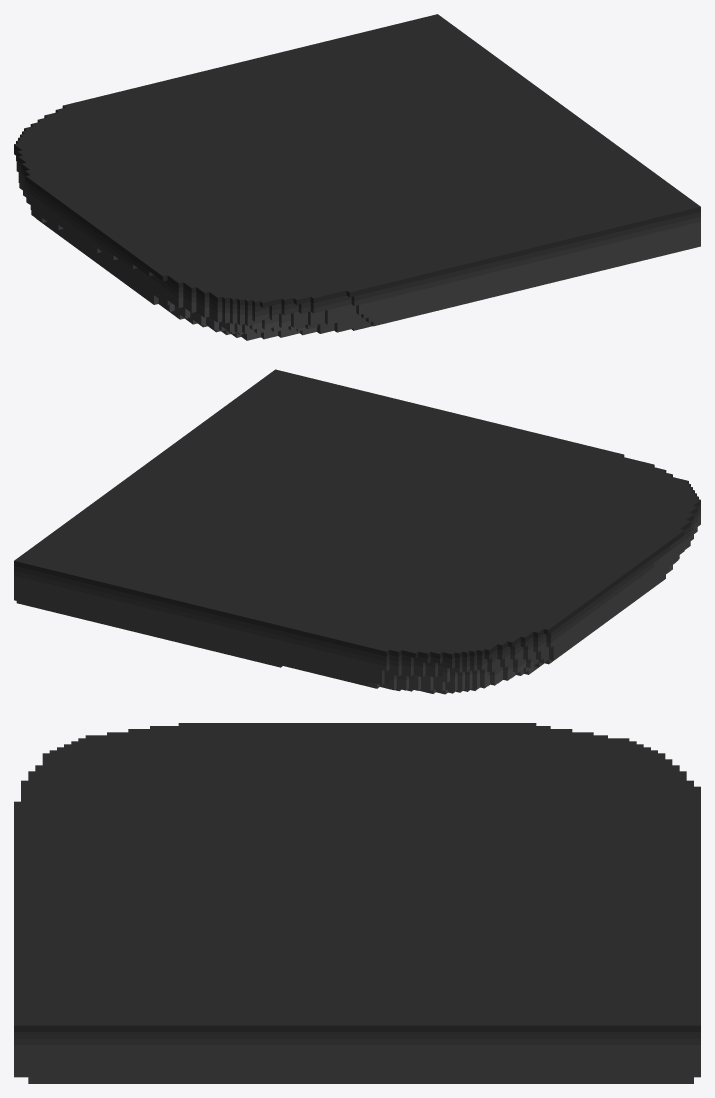
The model's file is Mountain End.obj.
3 views of the same model, one above another, from view 1: azimuth 30°, elevation 25°; view 2: azimuth 150°, elevation 25°; view 3: azimuth 270°, elevation 25° (orthographic). The views are drawn at different scales.
Visible parts, largest first — view 1: Mountain End; view 2: Mountain End; view 3: Mountain End.
Part boxes in pixels (x1,y1,x2,y2): Mountain End: [14, 14, 700, 340]; Mountain End: [14, 369, 700, 694]; Mountain End: [14, 723, 700, 1083].
Size of the model in its own units: 100 by 9 by 96.
Materials: 1 (1 with a texture image).
